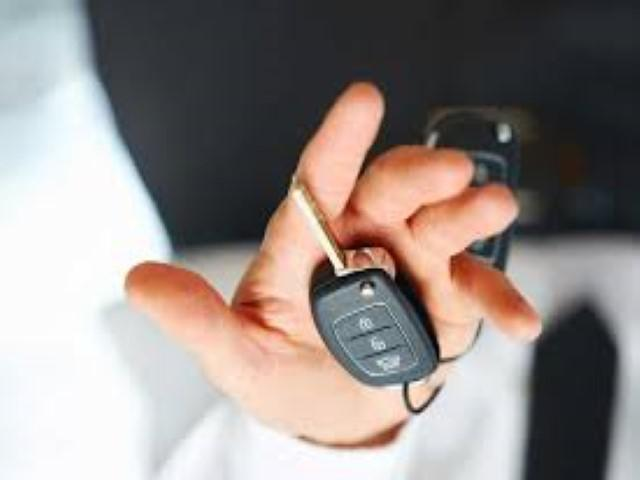key: (288, 175, 440, 440)
